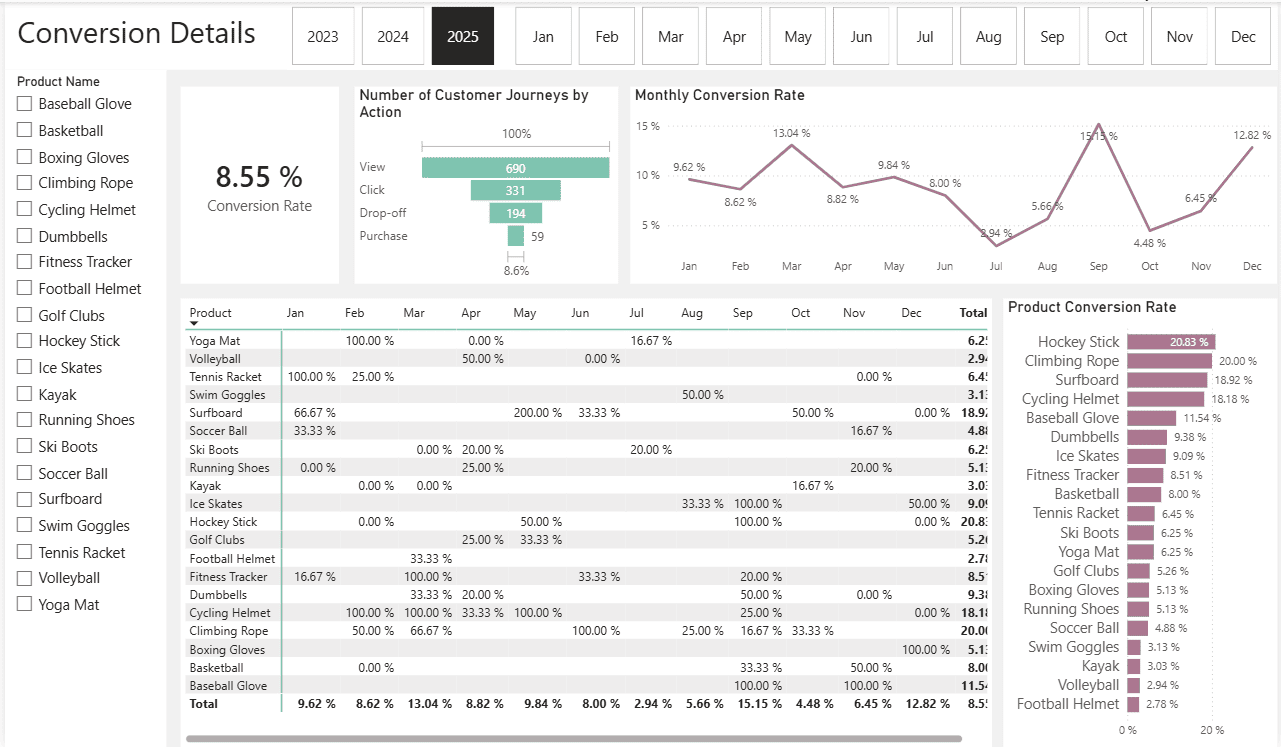

Layout of this report page (visuals, bound fields, positions):
{"tool":"powerbi","page":{"name":"Conversion Details","canvas":[1400,820],"ordinal":1},"visuals":[{"type":"textbox","box":[0,0,1400.3,74.4],"z":0},{"type":"slicer","fields":{"Values":["dim_product.ProductName"]},"box":[0,74.4,177.4,745.2],"z":1000},{"type":"advancedSlicerVisual","fields":{"Values":["Date.Year"]},"box":[310.4,0,234.6,74.4],"z":2000},{"type":"advancedSlicerVisual","fields":{"Values":["Date.MonthNameShort"]},"box":[556.4,0,843.9,74.4],"z":3000},{"type":"cardVisual","fields":{"Data":["_mesures.Conversion Rate"]},"box":[192.9,92.9,174.3,217.1],"z":4000},{"type":"lineChart","title":"Monthly Conversion Rate ","fields":{"Y":["_mesures.Conversion Rate"],"Category":["Date.MonthNameShort"]},"box":[688.6,92.9,711.4,217.1],"z":5000},{"type":"clusteredBarChart","title":"Product Conversion Rate ","fields":{"Category":["dim_product.ProductName"],"Y":["_mesures.Conversion Rate"]},"box":[1098.6,325.7,301.4,494.3],"z":6000},{"type":"funnel","title":" Number of Customer Journeys by Action","fields":{"Category":["fact_customer_journey.Action"],"Y":["CountNonNull(fact_customer_journey.CustomerID)"]},"box":[384.3,92.9,290,217.1],"z":7000},{"type":"pivotTable","fields":{"Values":["_mesures.Conversion Rate"],"Rows":["dim_product.ProductName"],"Columns":["Date.MonthNameShort"]},"box":[192.9,325.7,892.9,494.3],"z":8000}]}

Visuals, with their boxes in screenshot pixels (x1, y1, x2, y2), scaled from the page's 1400x820 canvas onto the 1281x747 screenshot:
textbox: select_region(0, 0, 1280, 68)
slicer - dim_product.ProductName: select_region(0, 68, 162, 746)
advancedSlicerVisual - Date.Year: select_region(284, 0, 499, 68)
advancedSlicerVisual - Date.MonthNameShort: select_region(509, 0, 1280, 68)
cardVisual - _mesures.Conversion Rate: select_region(177, 85, 336, 282)
"Monthly Conversion Rate " lineChart: select_region(630, 85, 1280, 282)
"Product Conversion Rate " clusteredBarChart: select_region(1005, 297, 1280, 746)
" Number of Customer Journeys by Action" funnel: select_region(352, 85, 617, 282)
pivotTable - _mesures.Conversion Rate x dim_product.ProductName: select_region(177, 297, 994, 746)
